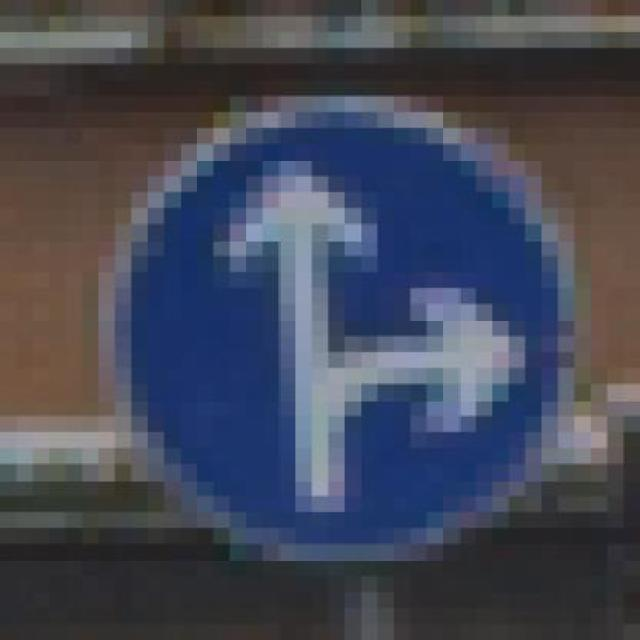Go Straight or Turn Right: (82, 79, 624, 576)
